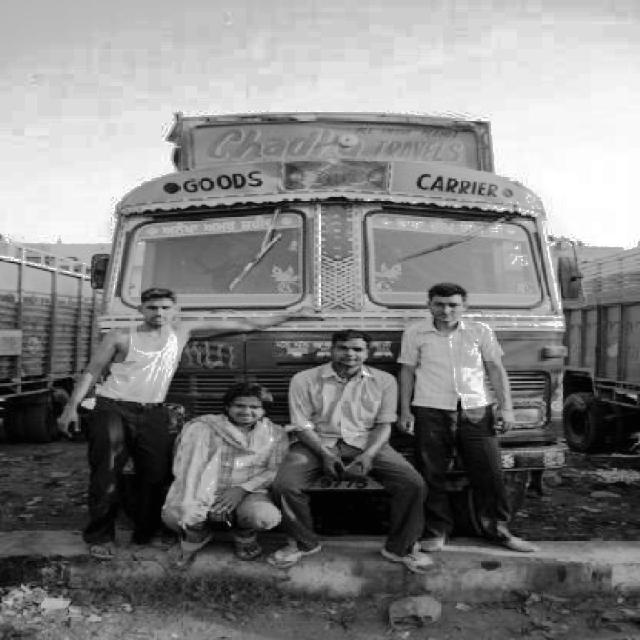HCV: (82, 125, 563, 524)
